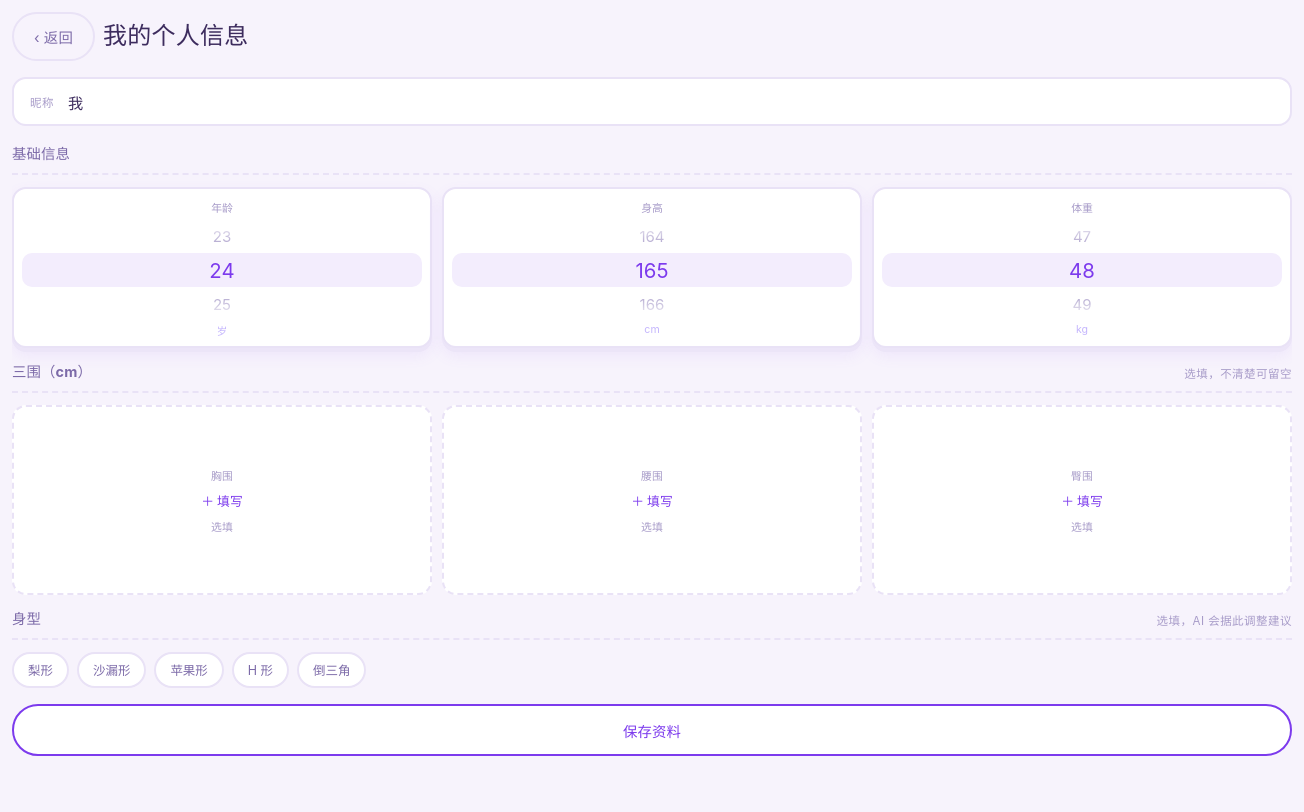
it: body profile sheet › lets the user add or clear each optional measurement independently
This screenshot has width=1304, height=812.
(page scrolled)
What coordinates should you click on to do the following:
click the button with aria-label "填写胸围"
I would click on:
 (222, 500)
Its box is [12,405,432,595].
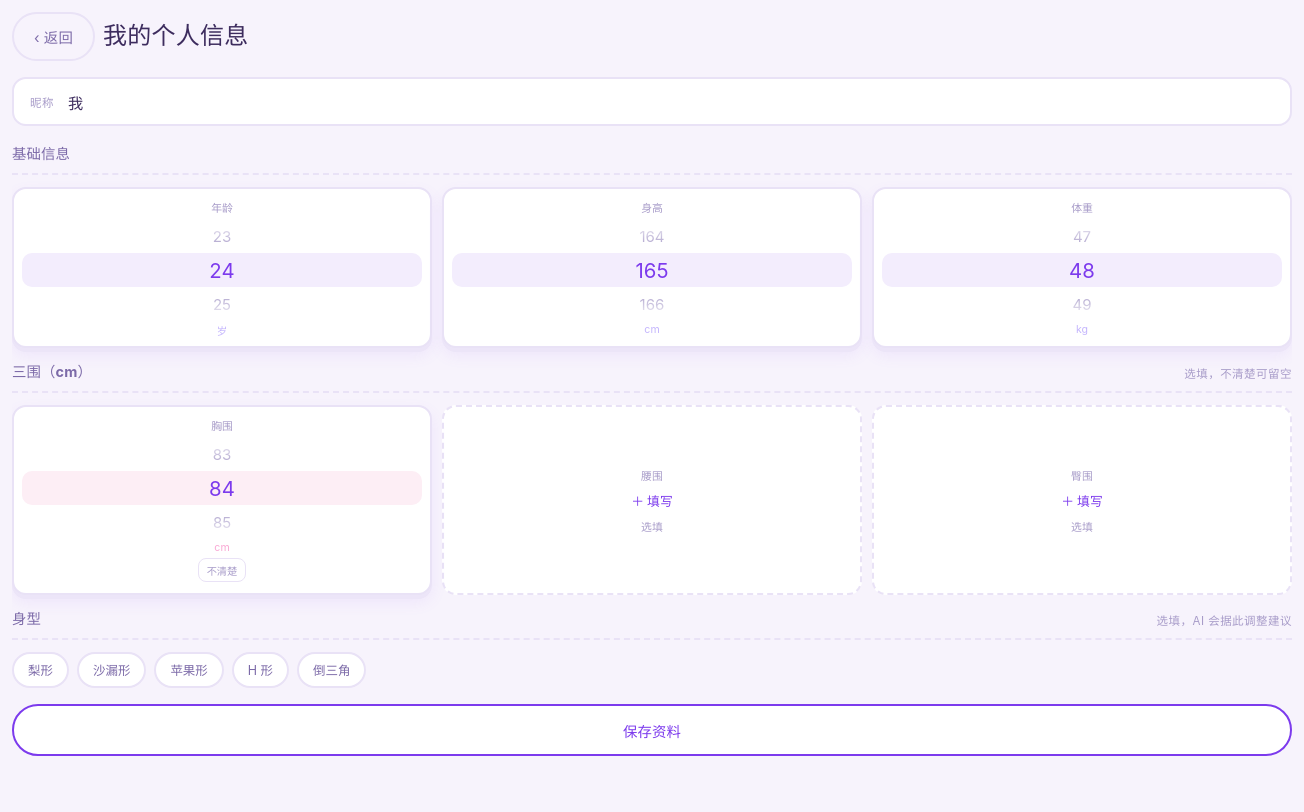
What coordinates should you click on to do the following:
click the button with aria-label "不填写胸围"
I would click on:
 (222, 570)
Its box is [198,558,246,582].
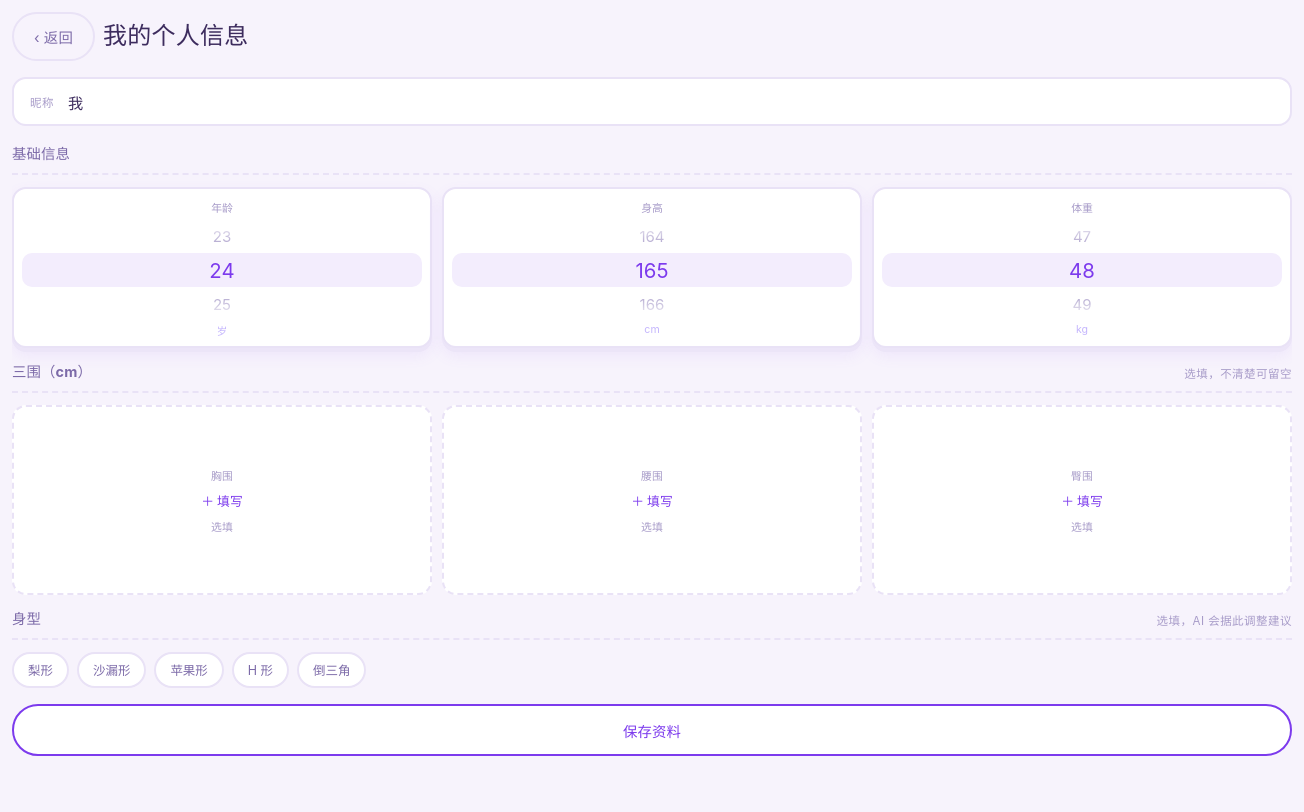
Expected: the button with aria-label "填写胸围" is shown, [12,405,432,595]
